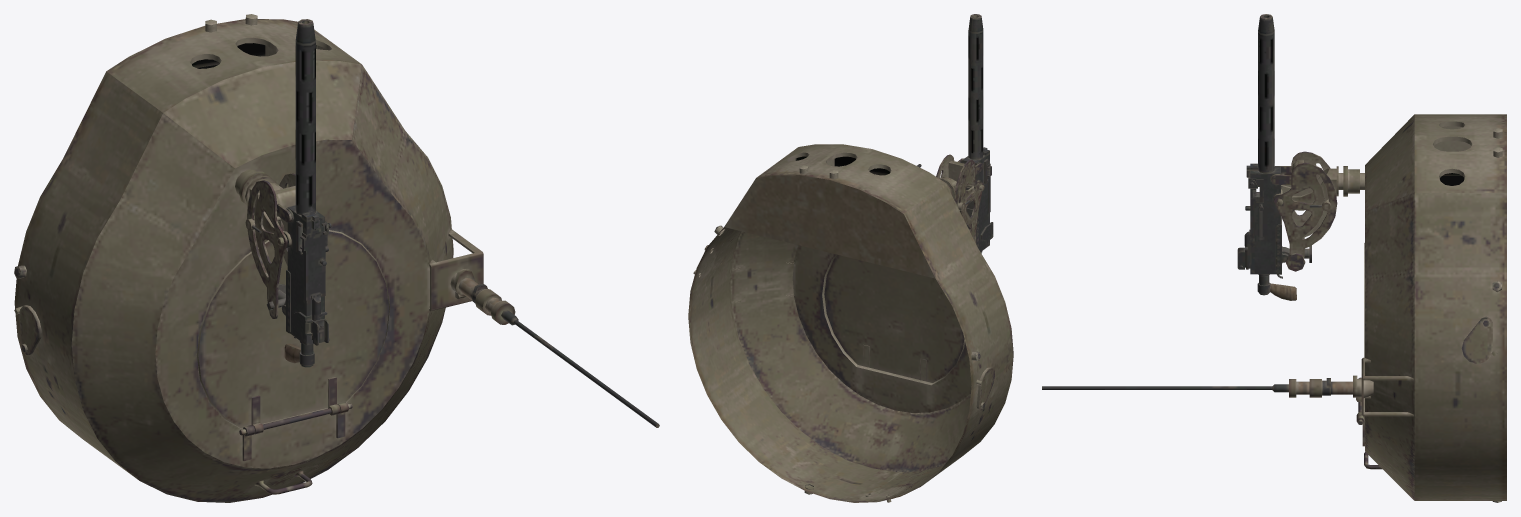
File: Turret_01.glb
3 renders of one model, left to right at view 1: azimuth 30°, elevation 25°; view 2: azimuth 150°, elevation 25°; view 3: azimuth 270°, elevation 25°, orthographic. The views are drawn at different scales.
Visible parts, largest first — view 1: set_0_group_0; view 2: set_0_group_0; view 3: set_0_group_0.
Part boxes in pixels (x1,y1,x2,y2): set_0_group_0: [14, 14, 659, 502]; set_0_group_0: [688, 14, 1013, 502]; set_0_group_0: [1042, 14, 1506, 502].
Bounding box in the file's own units: 1.32 × 1.81 × 1.68.
1 material, 1 textured.
